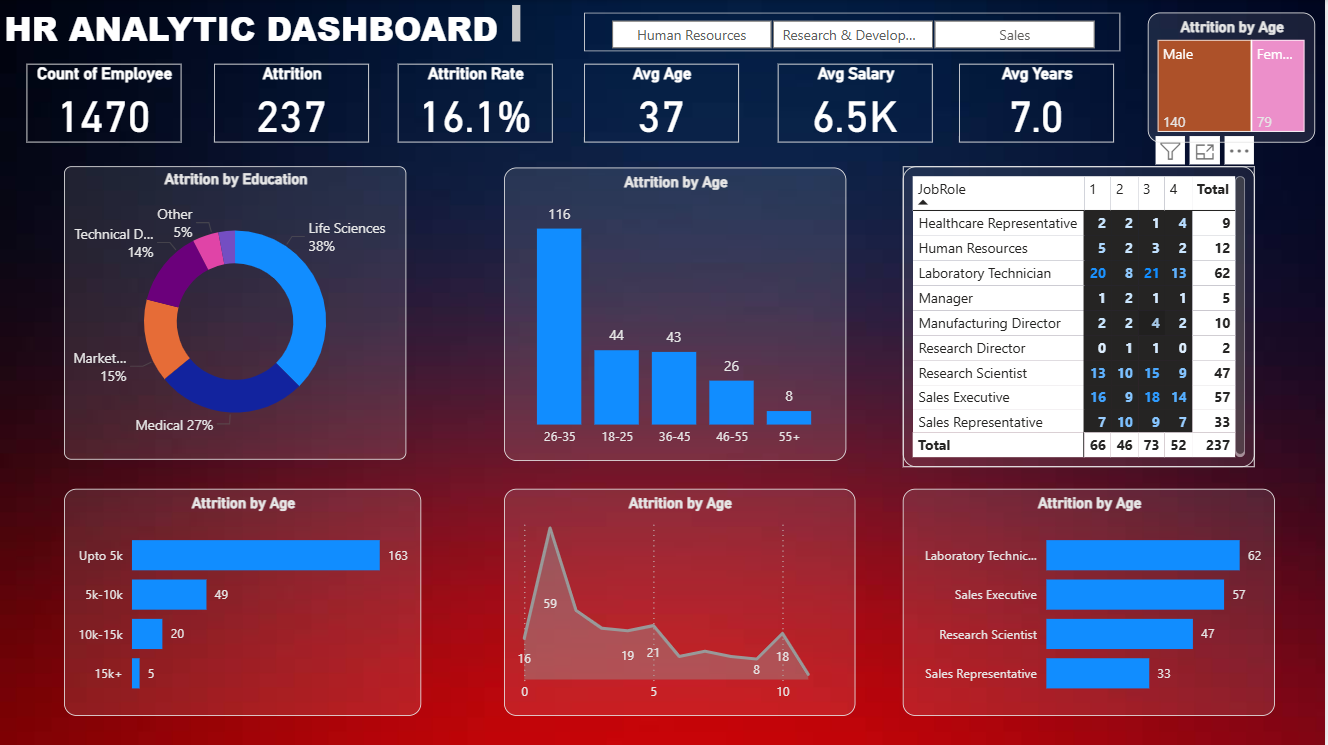

What the dashboard file says about the page in this screenshot:
{"tool":"powerbi","page":{"name":"Page 1","canvas":[1280,720],"ordinal":0},"visuals":[{"type":"card","title":"Count of Employee","fields":{"Values":["CountNonNull(HR_Analytics.EmpID)"]},"box":[26.5,61.5,149.6,76],"z":0},{"type":"card","title":"Attrition","fields":{"Values":["Sum(HR_Analytics.AttritionCount)"]},"box":[207.5,61.5,149.6,76],"z":1000},{"type":"card","title":"Attrition Rate","fields":{"Values":["HR_Analytics.AttritionRate"]},"box":[384.9,61.5,149.6,76],"z":2000},{"type":"card","title":"Avg Age","fields":{"Values":["Avg(HR_Analytics.Age)"]},"box":[564.6,61.5,149.6,76],"z":3000},{"type":"card","title":"Avg Years","fields":{"Values":["Avg(HR_Analytics.YearsAtCompany)"]},"box":[926.5,61.5,149.6,76],"z":4000},{"type":"card","title":"Avg Salary","fields":{"Values":["Avg(HR_Analytics.MonthlyIncome)"]},"box":[751.6,61.5,149.6,76],"z":5000},{"type":"donutChart","title":"Attrition by Education","fields":{"Category":["HR_Analytics.EducationField"],"Y":["Sum(HR_Analytics.AttritionCount)"]},"box":[62.7,160.5,330.6,283.5],"z":6000},{"type":"columnChart","title":"Attrition by Age","fields":{"Category":["HR_Analytics.AgeGroup"],"Y":["Sum(HR_Analytics.AttritionCount)"]},"box":[487.4,161.7,330.6,283.5],"z":7000},{"type":"pivotTable","fields":{"Rows":["HR_Analytics.JobRole"],"Columns":["HR_Analytics.JobSatisfaction"],"Values":["Sum(HR_Analytics.AttritionCount)"]},"box":[872.3,160.5,340.2,290.8],"z":8000},{"type":"clusteredBarChart","title":"Attrition by Age","fields":{"Category":["HR_Analytics.SalarySlab"],"Y":["Sum(HR_Analytics.AttritionCount)"]},"box":[62.7,471.7,345,219.6],"z":8001},{"type":"clusteredBarChart","title":"Attrition by Age","fields":{"Category":["HR_Analytics.JobRole"],"Y":["Sum(HR_Analytics.AttritionCount)"]},"box":[872.3,471.7,359.5,219.6],"z":8003},{"type":"stackedAreaChart","title":"Attrition by Age","fields":{"Category":["HR_Analytics.YearsAtCompany"],"Y":["Sum(HR_Analytics.AttritionCount)"]},"box":[487.4,471.7,339,219.6],"z":8004},{"type":"treemap","title":"Attrition by Age","fields":{"Group":["HR_Analytics.Gender"],"Values":["Sum(HR_Analytics.AttritionCount)"]},"box":[1108.7,12.1,161.7,125.5],"z":8005},{"type":"slicer","fields":{"Values":["HR_Analytics.Department"]},"box":[564.6,12.1,517.6,37.4],"z":8006},{"type":"textbox","box":[0,0,507.9,49.5],"z":8008}]}

Visuals, with their boxes in screenshot pixels (x1, y1, x2, y2), scaled from the page's 1280x720 canvas onto the 1328x745 screenshot:
"Count of Employee" card: (x1=27, y1=64, x2=183, y2=142)
"Attrition" card: (x1=215, y1=64, x2=370, y2=142)
"Attrition Rate" card: (x1=399, y1=64, x2=555, y2=142)
"Avg Age" card: (x1=586, y1=64, x2=741, y2=142)
"Avg Years" card: (x1=961, y1=64, x2=1116, y2=142)
"Avg Salary" card: (x1=780, y1=64, x2=935, y2=142)
"Attrition by Education" donutChart: (x1=65, y1=166, x2=408, y2=459)
"Attrition by Age" columnChart: (x1=506, y1=167, x2=849, y2=461)
pivotTable - HR_Analytics.JobRole x HR_Analytics.JobSatisfaction: (x1=905, y1=166, x2=1258, y2=467)
"Attrition by Age" clusteredBarChart: (x1=65, y1=488, x2=423, y2=715)
"Attrition by Age" clusteredBarChart: (x1=905, y1=488, x2=1278, y2=715)
"Attrition by Age" stackedAreaChart: (x1=506, y1=488, x2=857, y2=715)
"Attrition by Age" treemap: (x1=1150, y1=13, x2=1318, y2=142)
slicer - HR_Analytics.Department: (x1=586, y1=13, x2=1123, y2=51)
textbox: (x1=0, y1=0, x2=527, y2=51)
